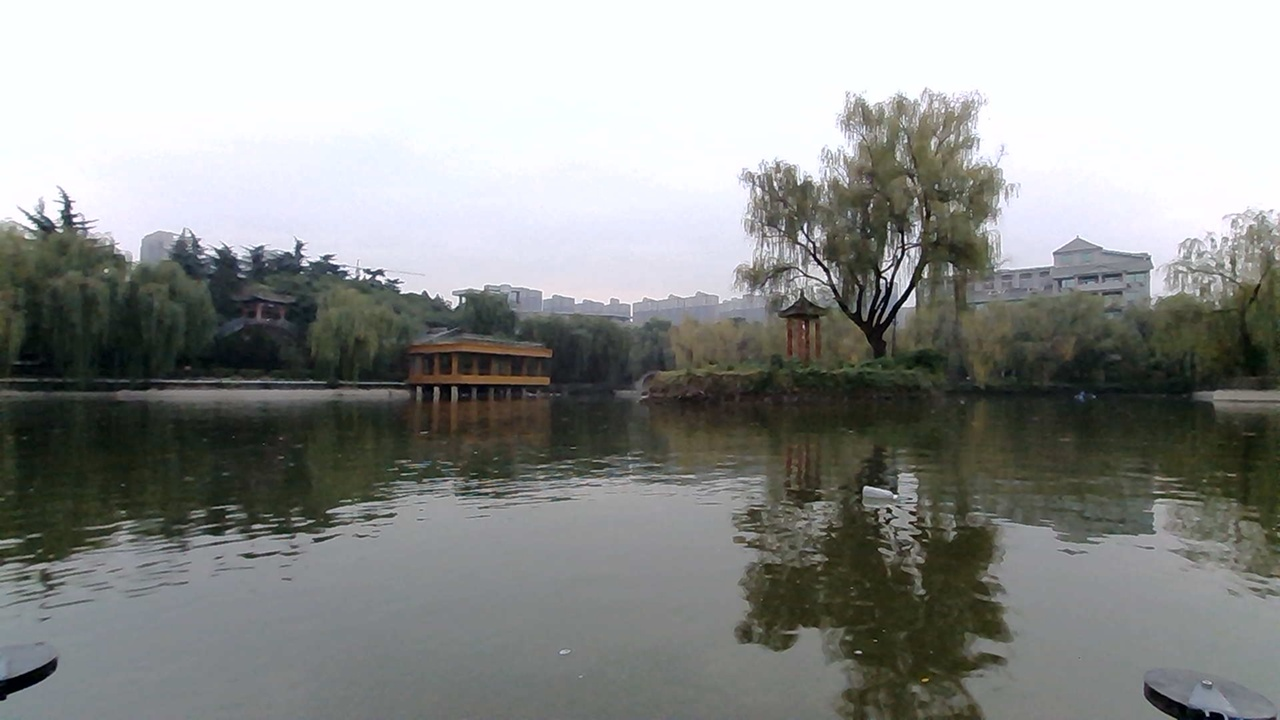bottle: (862, 478, 926, 511)
